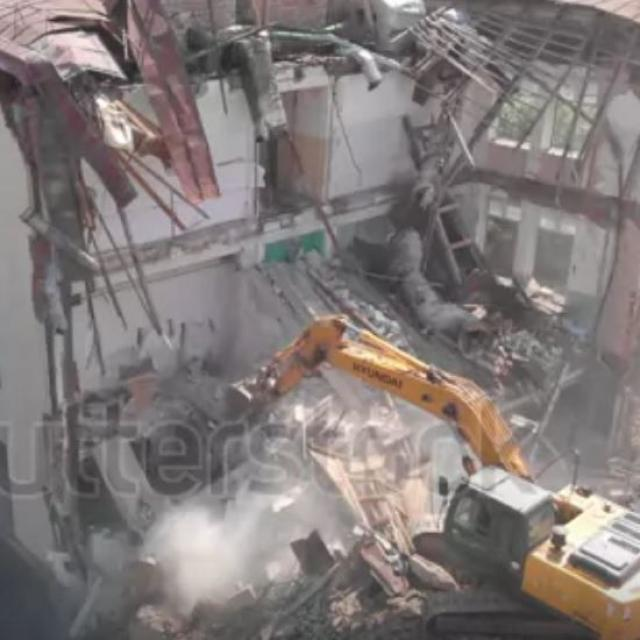collapsed_building: (4, 2, 616, 577)
